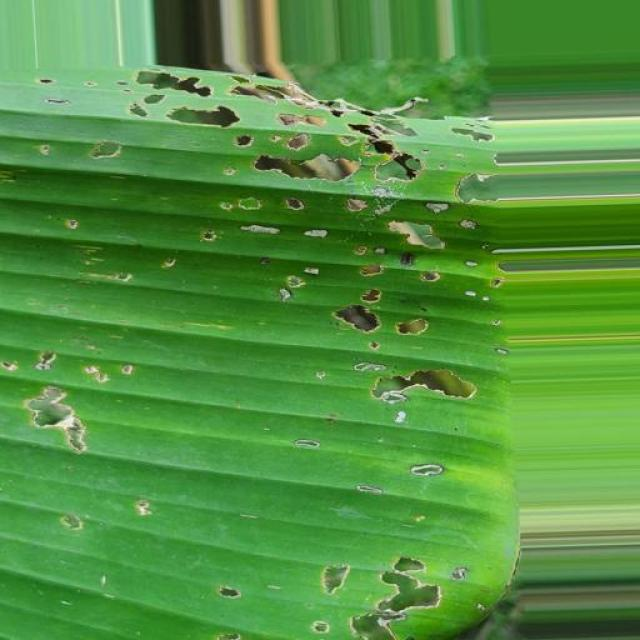Black_rot: (6, 60, 538, 640)
